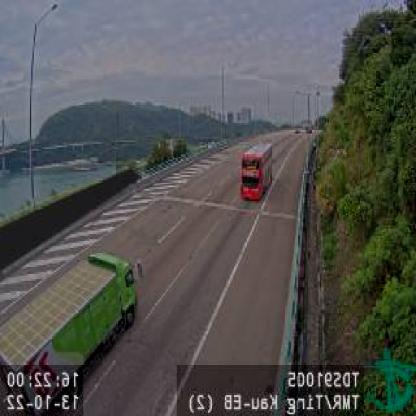Bus: (242, 140, 274, 200)
Truck: (0, 250, 137, 411)
